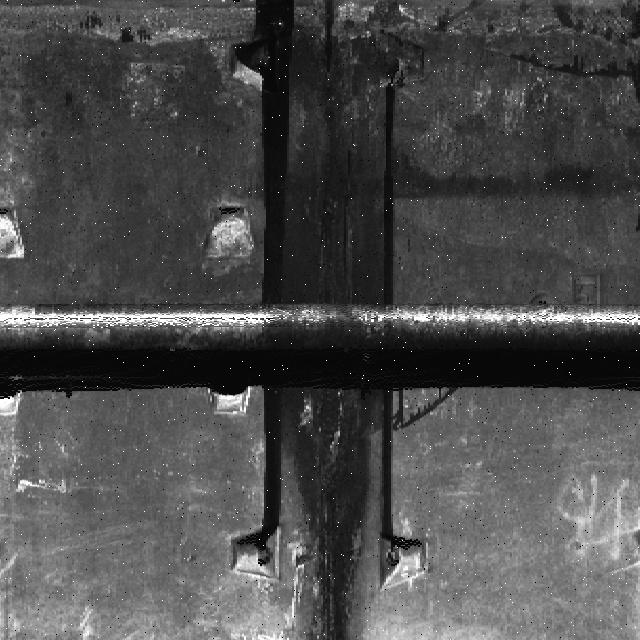leakage: (238, 0, 411, 301), (247, 379, 406, 639)
